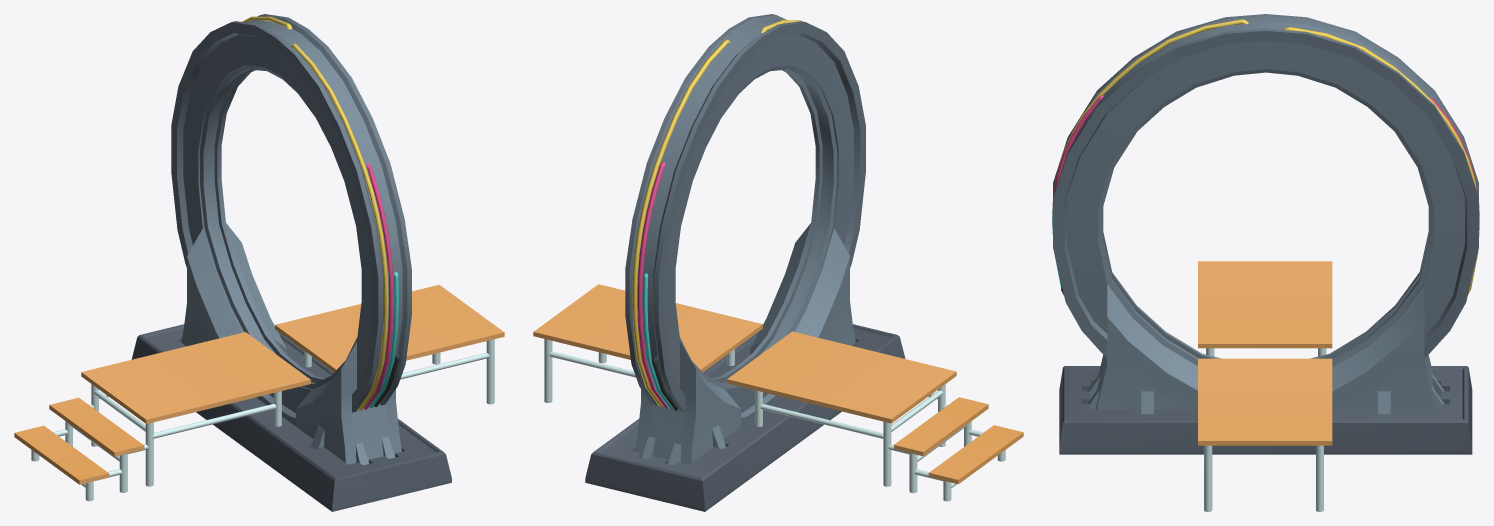
The model's file is Portal.fbx.
3 views of the same model, side by side, from view 1: azimuth 30°, elevation 25°; view 2: azimuth 150°, elevation 25°; view 3: azimuth 270°, elevation 25° (orthographic). The views are drawn at different scales.
Visible parts, largest first — view 1: pCylinder20; view 2: pCylinder20; view 3: pCylinder20.
Boxes of the visible parts, box(x1,y1,x2,y2) form: pCylinder20: box(14, 14, 504, 511); pCylinder20: box(533, 14, 1023, 511); pCylinder20: box(1052, 14, 1479, 511).
Bounding box in the file's own units: 37.62 × 33.07 × 31.88.
Materials: 1 (1 with a texture image).
